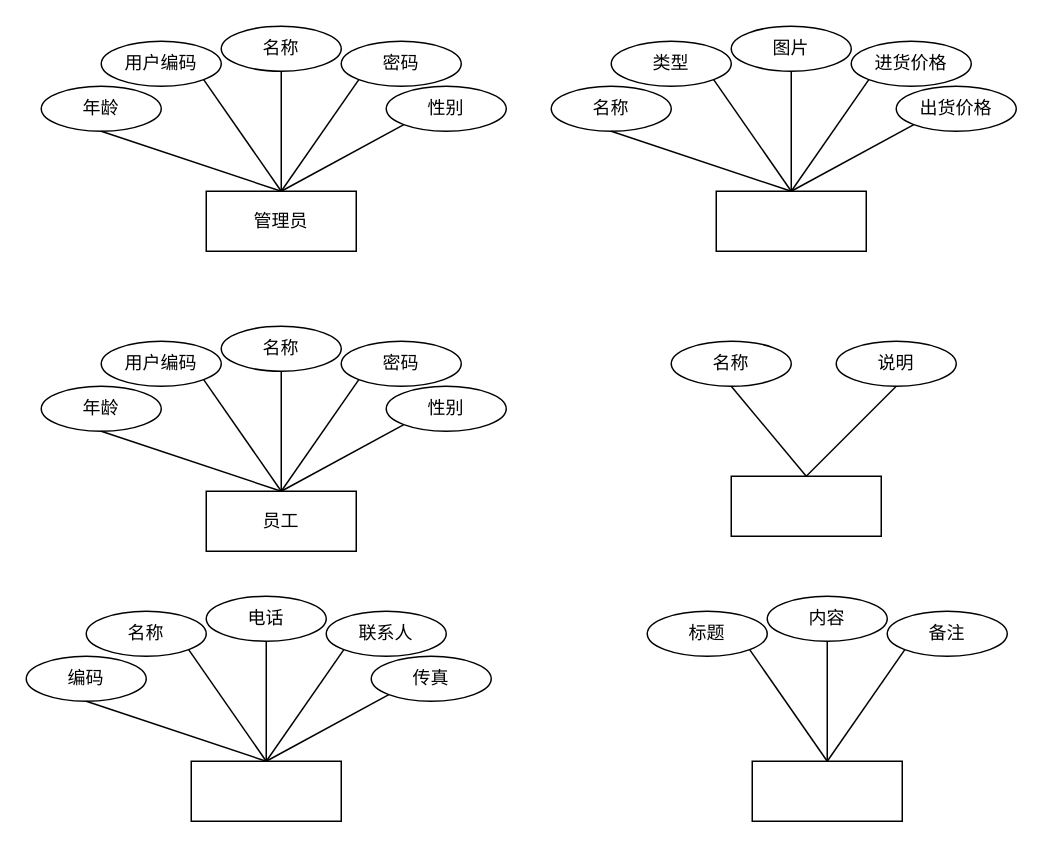
Image size: 1043x848. Some labels were removed from this diagram. Here are the shapes that lost their labels. From the top down, the centre of each, then its label:
At [790,220]: "药品".
At [805,505]: "药品类别".
At [265,790]: "供应商".
At [826,790]: "公告".
